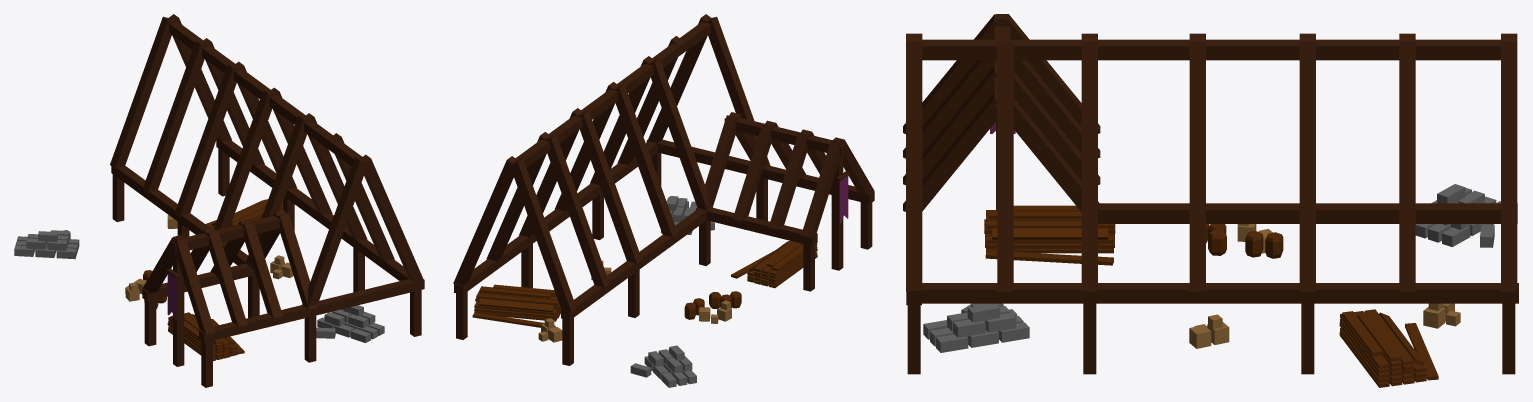
File: BarracksBuildPhase2v1.fbx
The picture shows the model from 3 angles, left to right: view 1: azimuth 30°, elevation 25°; view 2: azimuth 150°, elevation 25°; view 3: azimuth 270°, elevation 25°; orthographic projection. The views are drawn at different scales.
Parts seen in each view (by area): view 1: Cube.3501; view 2: Cube.3501; view 3: Cube.3501.
Boxes of the visible parts, x1,y1,x2,y2 form: Cube.3501: (14,14,424,387); Cube.3501: (453,14,874,387); Cube.3501: (903,14,1518,387).
Size of the model in its own units: 225 by 167 by 317.
